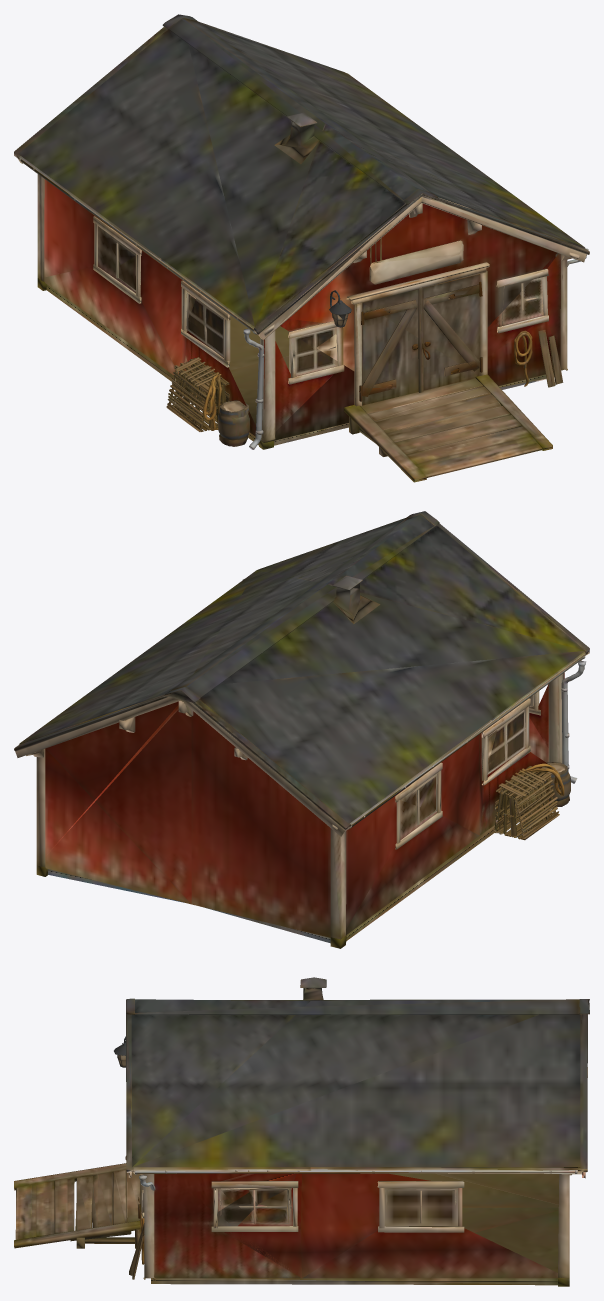
File: boden.glb
3 renders of one model, top to bottom at view 1: azimuth 30°, elevation 25°; view 2: azimuth 150°, elevation 25°; view 3: azimuth 270°, elevation 25°, orthographic. The views are drawn at different scales.
Parts seen in each view (by area): view 1: geometry_0; view 2: geometry_0; view 3: geometry_0.
Part boxes in pixels (<box>): geometry_0: <box>14,14,589,482</box>; geometry_0: <box>14,511,589,948</box>; geometry_0: <box>14,977,589,1286</box>.
Size of the model in its own units: 0.6392 by 0.4189 by 0.9565.
1 material, 1 textured.
